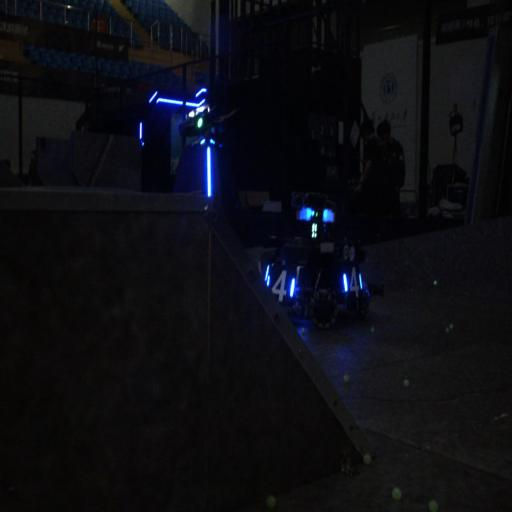target: (264, 264, 301, 306), (335, 265, 367, 307)
